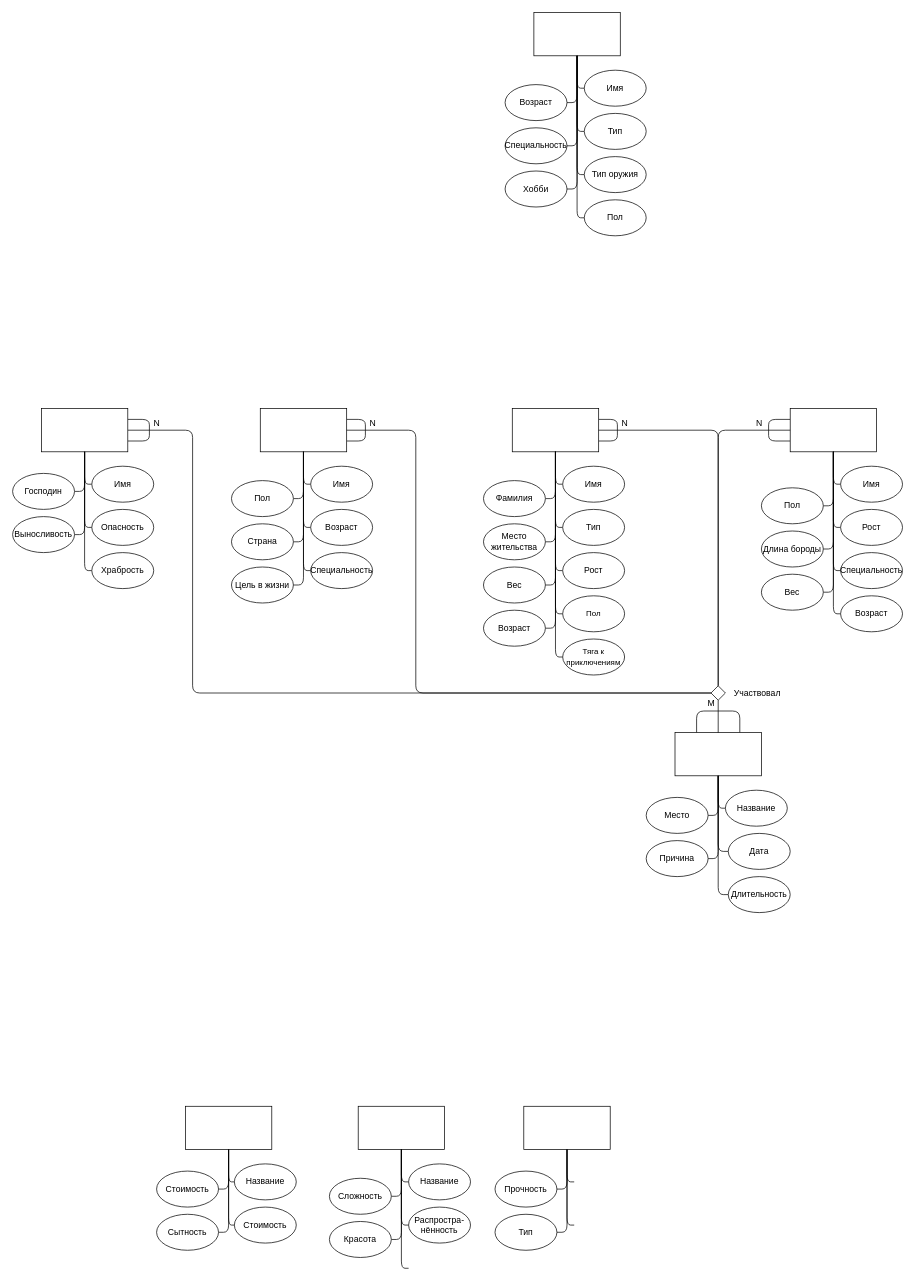
The diagram is 915 pixels wide and 1282 high, and some of its shapes have lost their labels. Here are the shapes that lost their labels. From the top down, the box of each, then its label:
(533, 12, 620, 56): Эльф
(41, 408, 128, 452): Орк
(260, 408, 347, 452): Человек
(512, 408, 599, 452): Хоббит
(789, 408, 877, 452): Гном
(674, 732, 761, 776): Битва
(185, 1106, 272, 1149): Еда
(357, 1106, 445, 1149): Язык
(523, 1106, 610, 1149): Одежда
